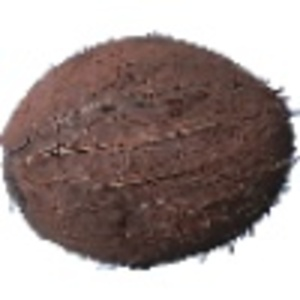coco: (1, 35, 300, 271)
